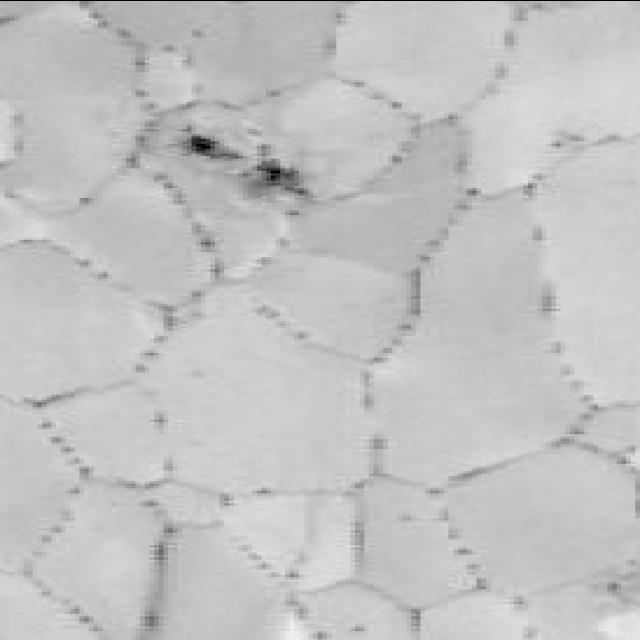good_void: (238, 156, 311, 201), (170, 125, 248, 164)
